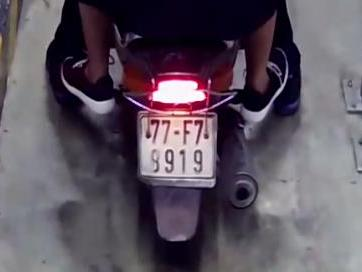num_plate: (136, 111, 217, 188)
